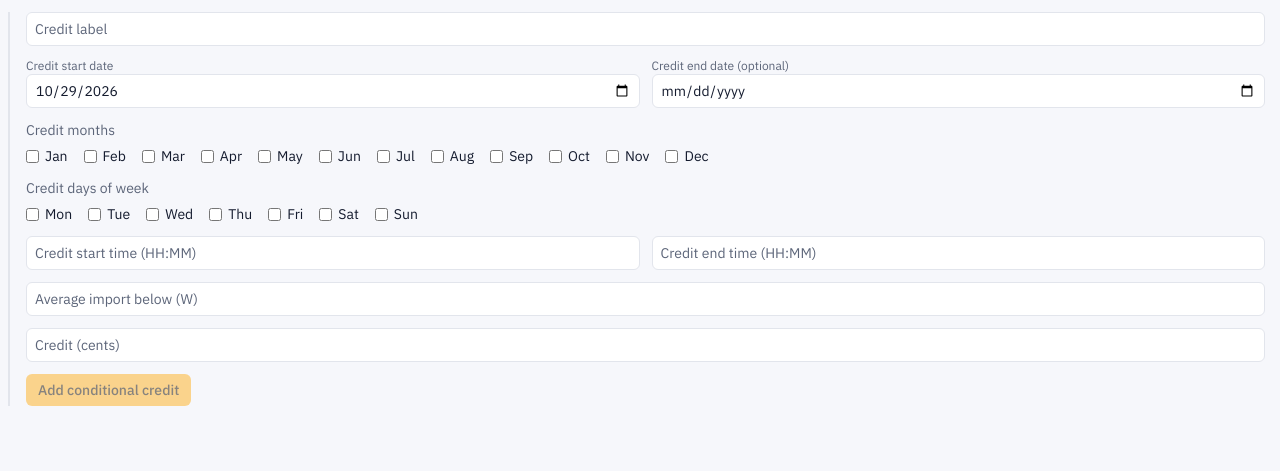
ConditionalCredits › shows the API error message when the create fails
The image size is (1280, 471).
Type "x" into the field labelled "Credit label".
click(646, 29); type("x")  # box [26,12,1265,46]
Click the checkbox labelled "Jan".
click(32, 156)  # box [26,150,39,162]
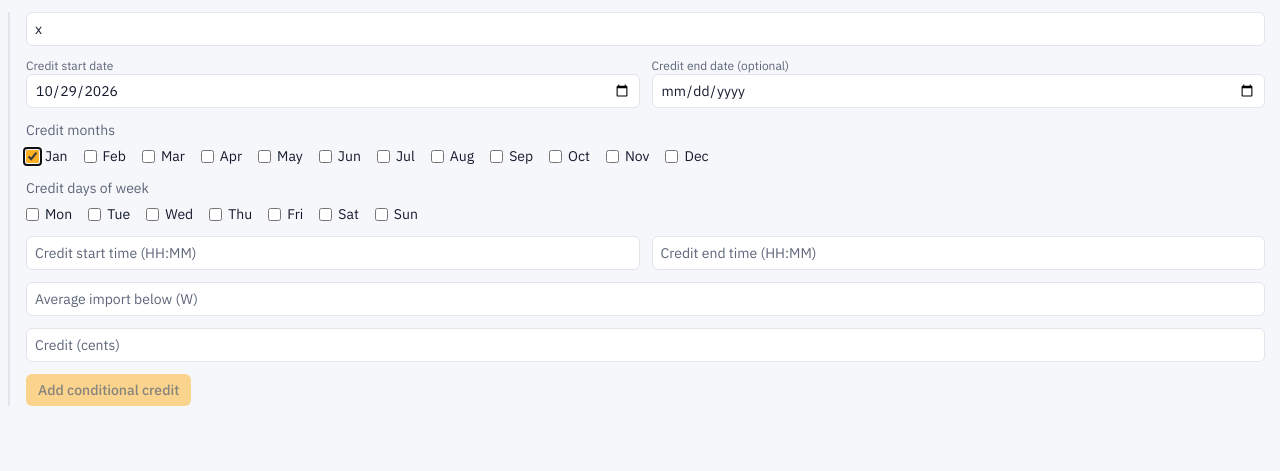
Click the checkbox labelled "Mon".
click(32, 214)  # box [26,208,39,220]
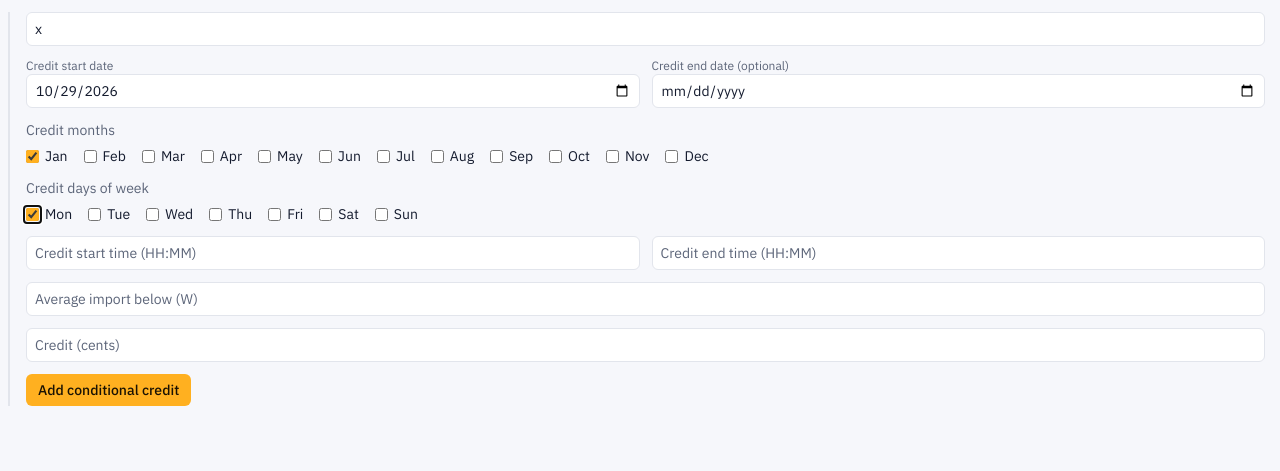
Type "21:00" into the field labelled "Credit start time".
click(333, 253); type("21:00")  # box [26,236,640,270]
Type "17:00" into the field labelled "Credit end time".
click(958, 253); type("17:00")  # box [652,236,1265,270]
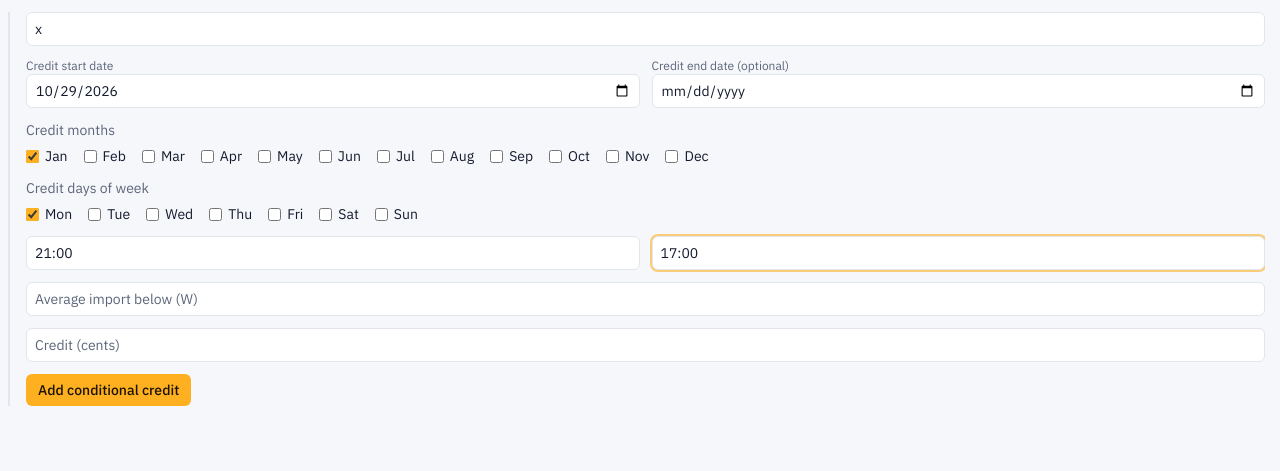
Type "300" into the field labelled "Average import below (W)".
click(646, 299); type("300")  # box [26,282,1265,316]
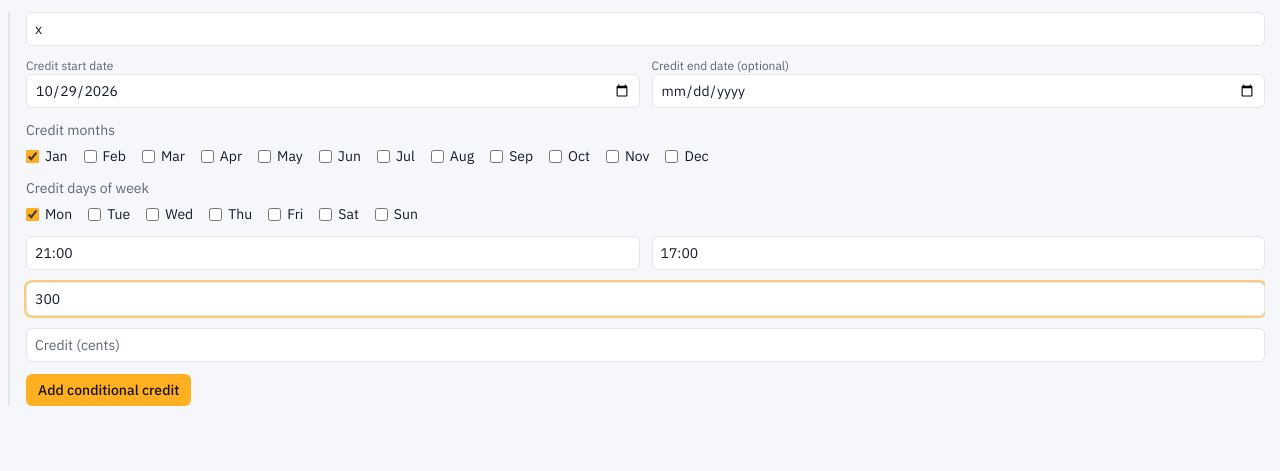
Type "50" into the field labelled "Credit (cents)".
click(646, 345); type("50")  # box [26,328,1265,362]
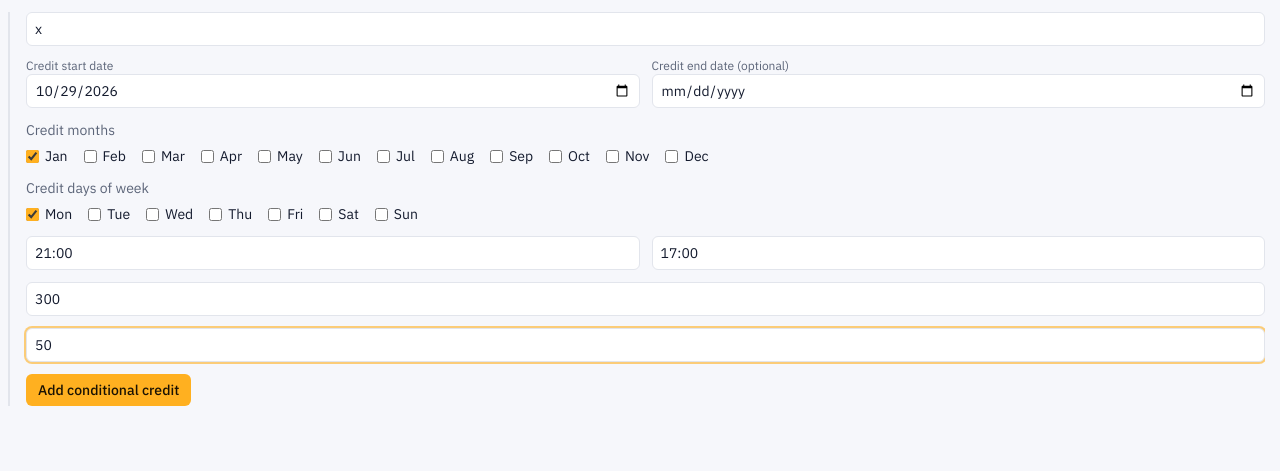
Click the button "Add conditional credit".
click(109, 390)  # box [26,374,191,406]
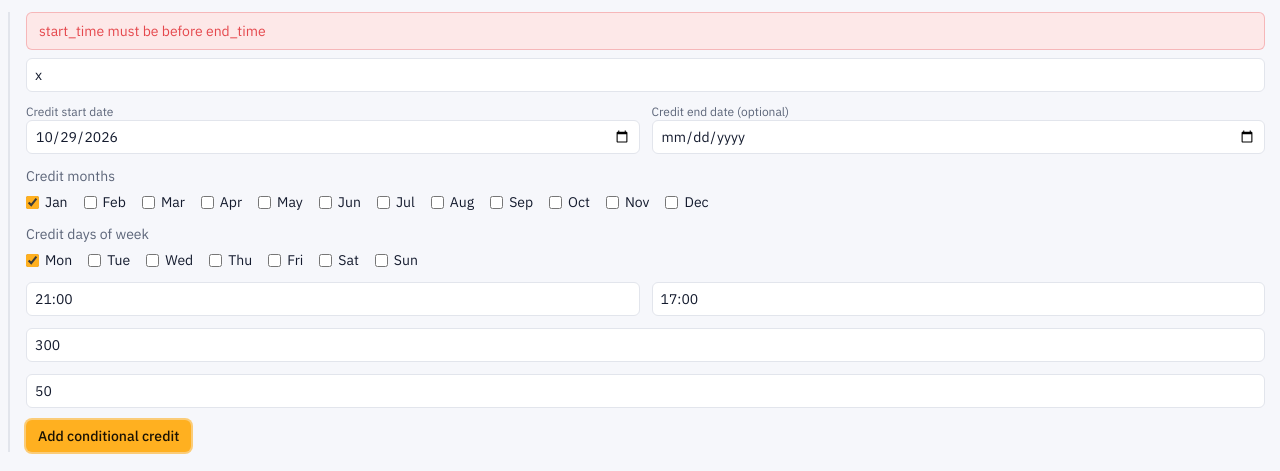
Now the message reads "start_time must be before end_time", box [39,22,266,40]
